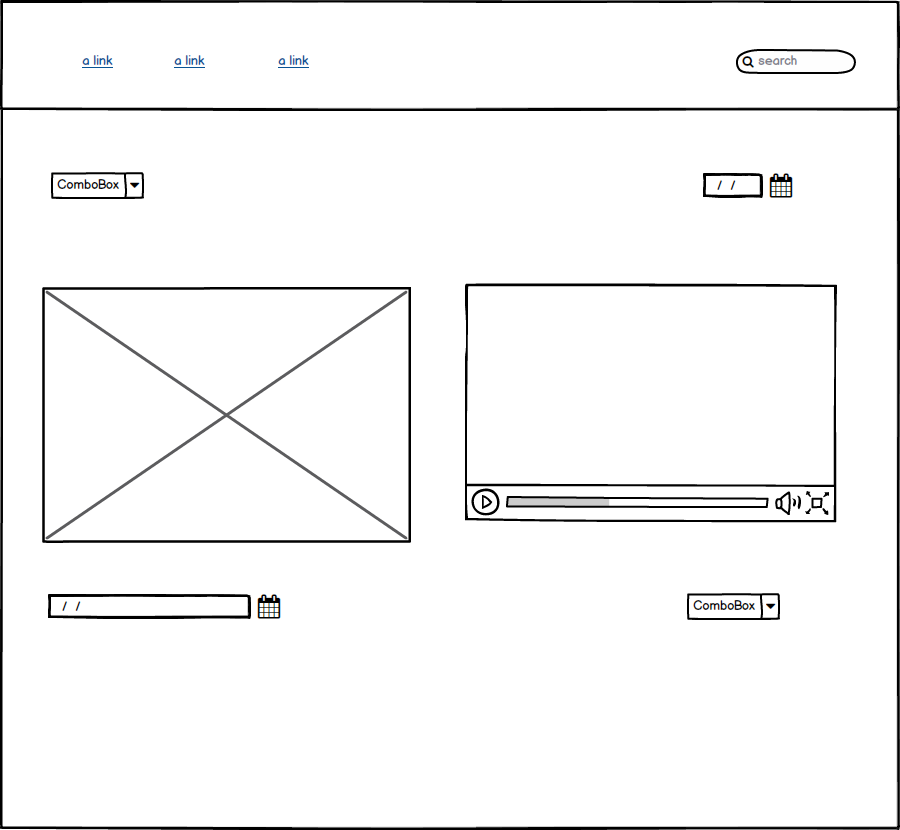date_picker: (42, 591, 287, 625), (688, 163, 812, 206)
image: (35, 281, 430, 549)
navlink: (270, 45, 323, 73), (166, 47, 213, 74), (78, 49, 118, 73)
search: (731, 42, 861, 83)
select_box: (41, 166, 155, 209), (675, 587, 790, 629)
video: (454, 278, 854, 533)
